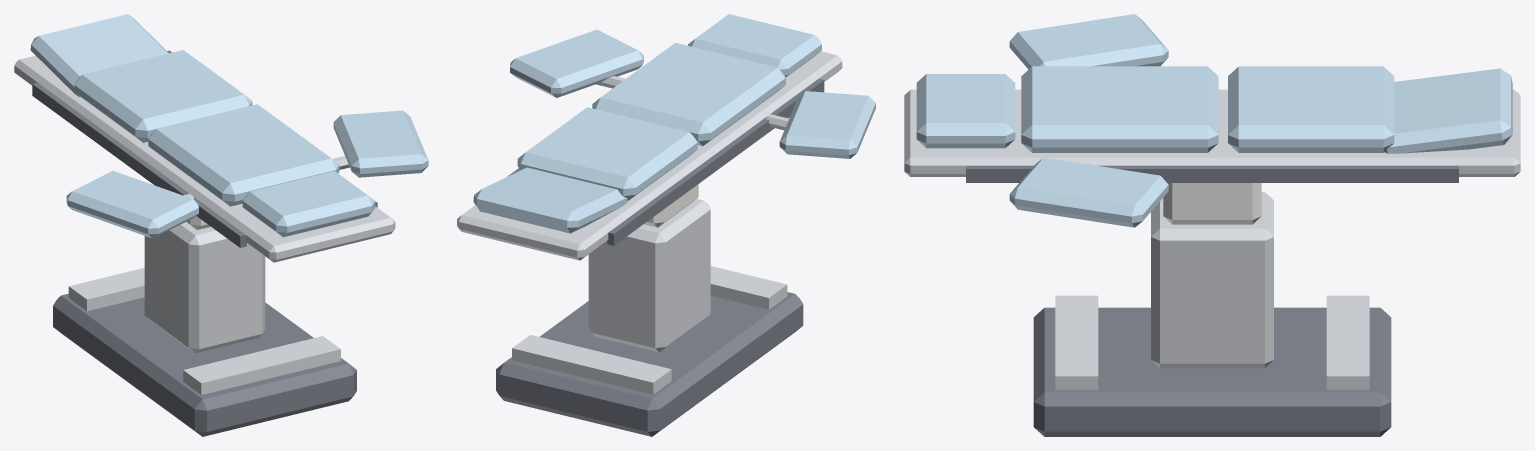
3 views of the same model, side by side, from view 1: azimuth 30°, elevation 25°; view 2: azimuth 150°, elevation 25°; view 3: azimuth 270°, elevation 25° (orthographic). The views are drawn at different scales.
Parts seen in each view (by area): view 1: table-top-sky, operating-table, table-top, table-top-charcoal; view 2: table-top-sky, operating-table, table-top, table-top-charcoal; view 3: operating-table, table-top-sky, table-top, table-top-charcoal.
Part boxes in pixels (x1=…): table-top-sky: x1=30, y1=14, x2=428, y2=238; operating-table: x1=53, y1=216, x2=356, y2=436; table-top: x1=14, y1=55, x2=395, y2=262; table-top-charcoal: x1=32, y1=50, x2=377, y2=247; table-top-sky: x1=473, y1=14, x2=875, y2=233; operating-table: x1=496, y1=184, x2=803, y2=436; table-top: x1=457, y1=51, x2=842, y2=260; table-top-charcoal: x1=475, y1=78, x2=824, y2=245; operating-table: x1=1033, y1=183, x2=1391, y2=436; table-top-sky: x1=916, y1=14, x2=1512, y2=227; table-top: x1=904, y1=89, x2=1520, y2=176; table-top-charcoal: x1=966, y1=165, x2=1458, y2=182.
Bounding box in the file's own units: 1.52 × 1.08 × 2.
